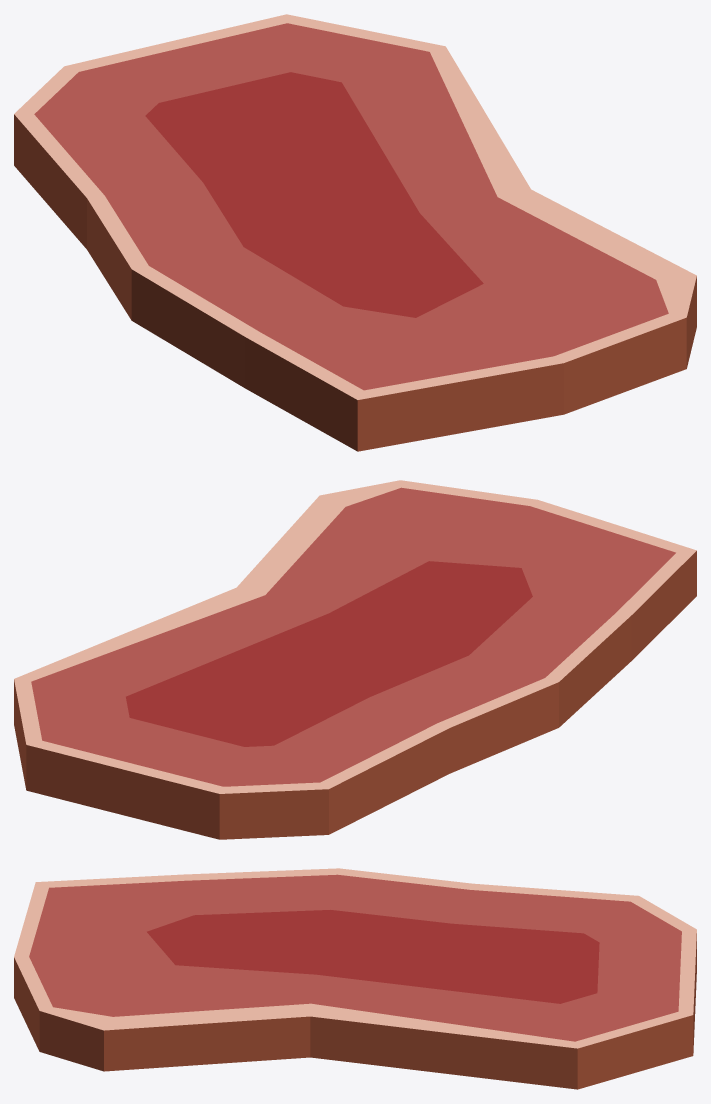
The model's file is SM_Props_Interior_Shop_Butcher_03.fbx.
The picture shows the model from 3 angles, top to bottom: view 1: azimuth 30°, elevation 25°; view 2: azimuth 150°, elevation 25°; view 3: azimuth 270°, elevation 25°; orthographic projection. The views are drawn at different scales.
Visible parts, largest first — view 1: SM_Props_Interior_Shop_Butcher_03; view 2: SM_Props_Interior_Shop_Butcher_03; view 3: SM_Props_Interior_Shop_Butcher_03.
Boxes of the visible parts, x1,y1,x2,y2 form: SM_Props_Interior_Shop_Butcher_03: (14,14,696,451); SM_Props_Interior_Shop_Butcher_03: (14,480,696,839); SM_Props_Interior_Shop_Butcher_03: (14,868,696,1089).
Size of the model in its own units: 37.69 by 4 by 60.38.
